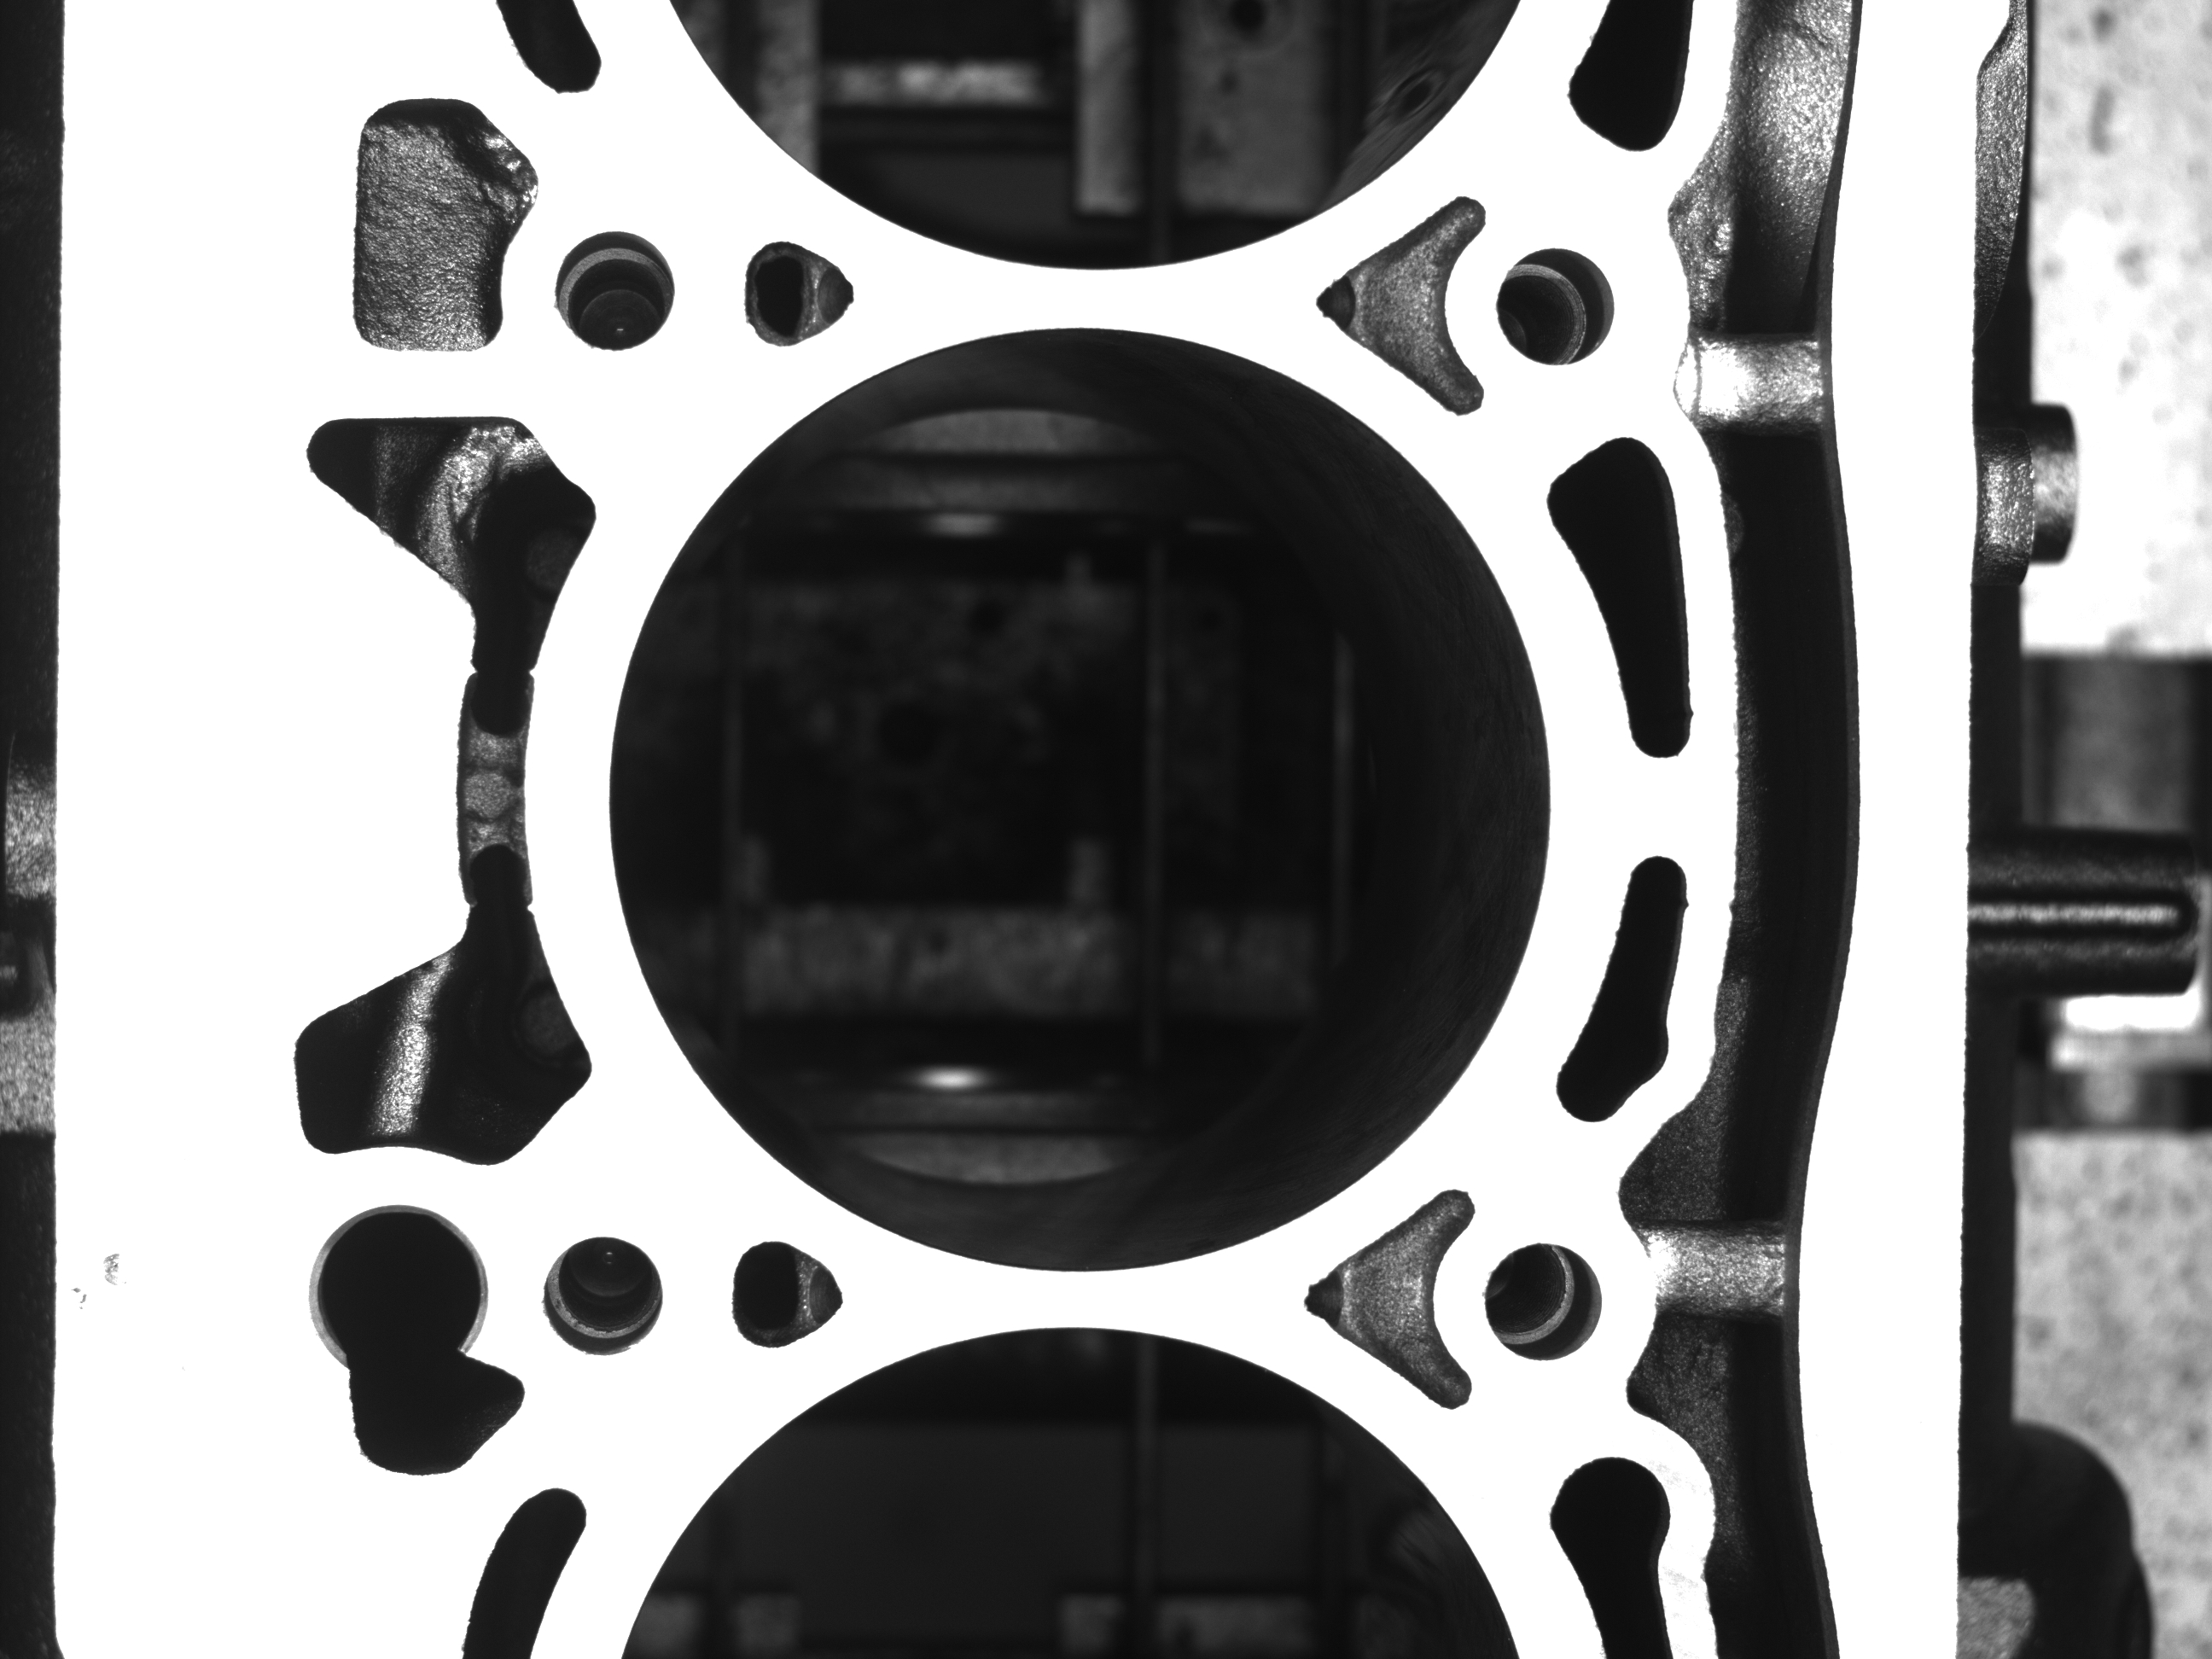shrinkage: (66, 1222, 162, 1340)
